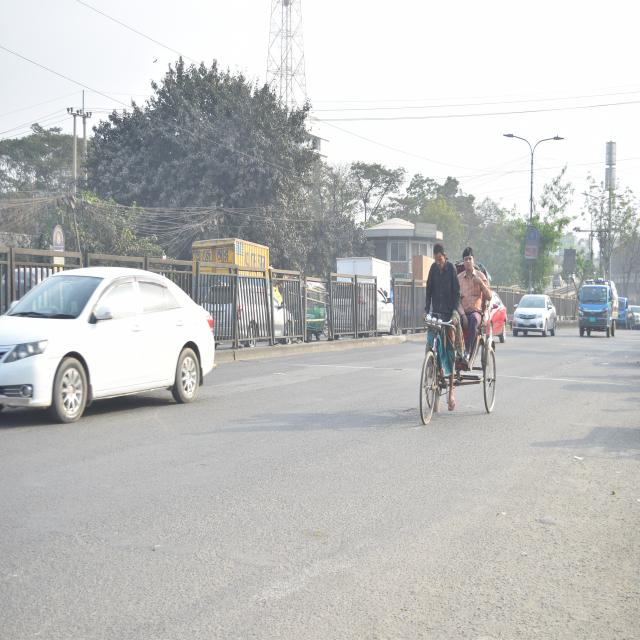car: (0, 233, 229, 451), (504, 282, 560, 343)
pickup-van: (574, 262, 621, 344)
